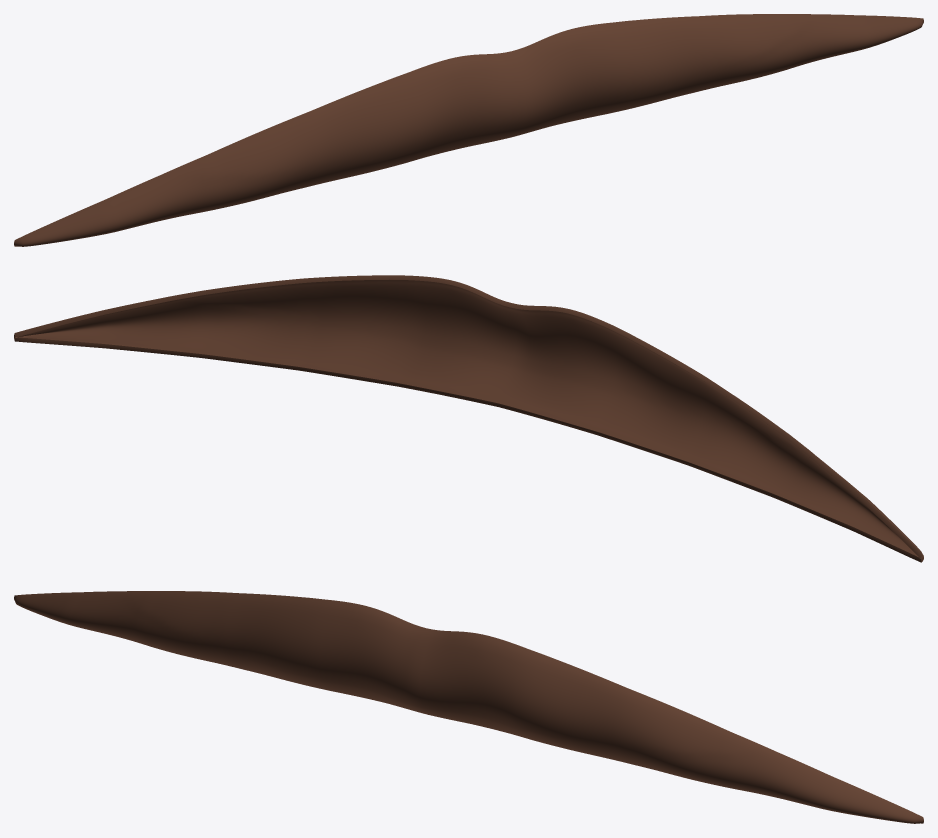
Rendered from Masculine-groom-mustache.glb.
The picture shows the model from 3 angles, top to bottom: view 1: azimuth 30°, elevation 25°; view 2: azimuth 150°, elevation 25°; view 3: azimuth 330°, elevation 25°; orthographic projection.
Visible parts, largest first — view 1: Groom / shared mustache184; view 2: Groom / shared mustache184; view 3: Groom / shared mustache184.
Boxes of the visible parts, x1,y1,x2,y2 form: Groom / shared mustache184: (14, 14, 923, 246); Groom / shared mustache184: (14, 275, 923, 562); Groom / shared mustache184: (14, 591, 923, 823).
Bounding box in the file's own units: 0.2613 × 0.0342 × 0.0289.
